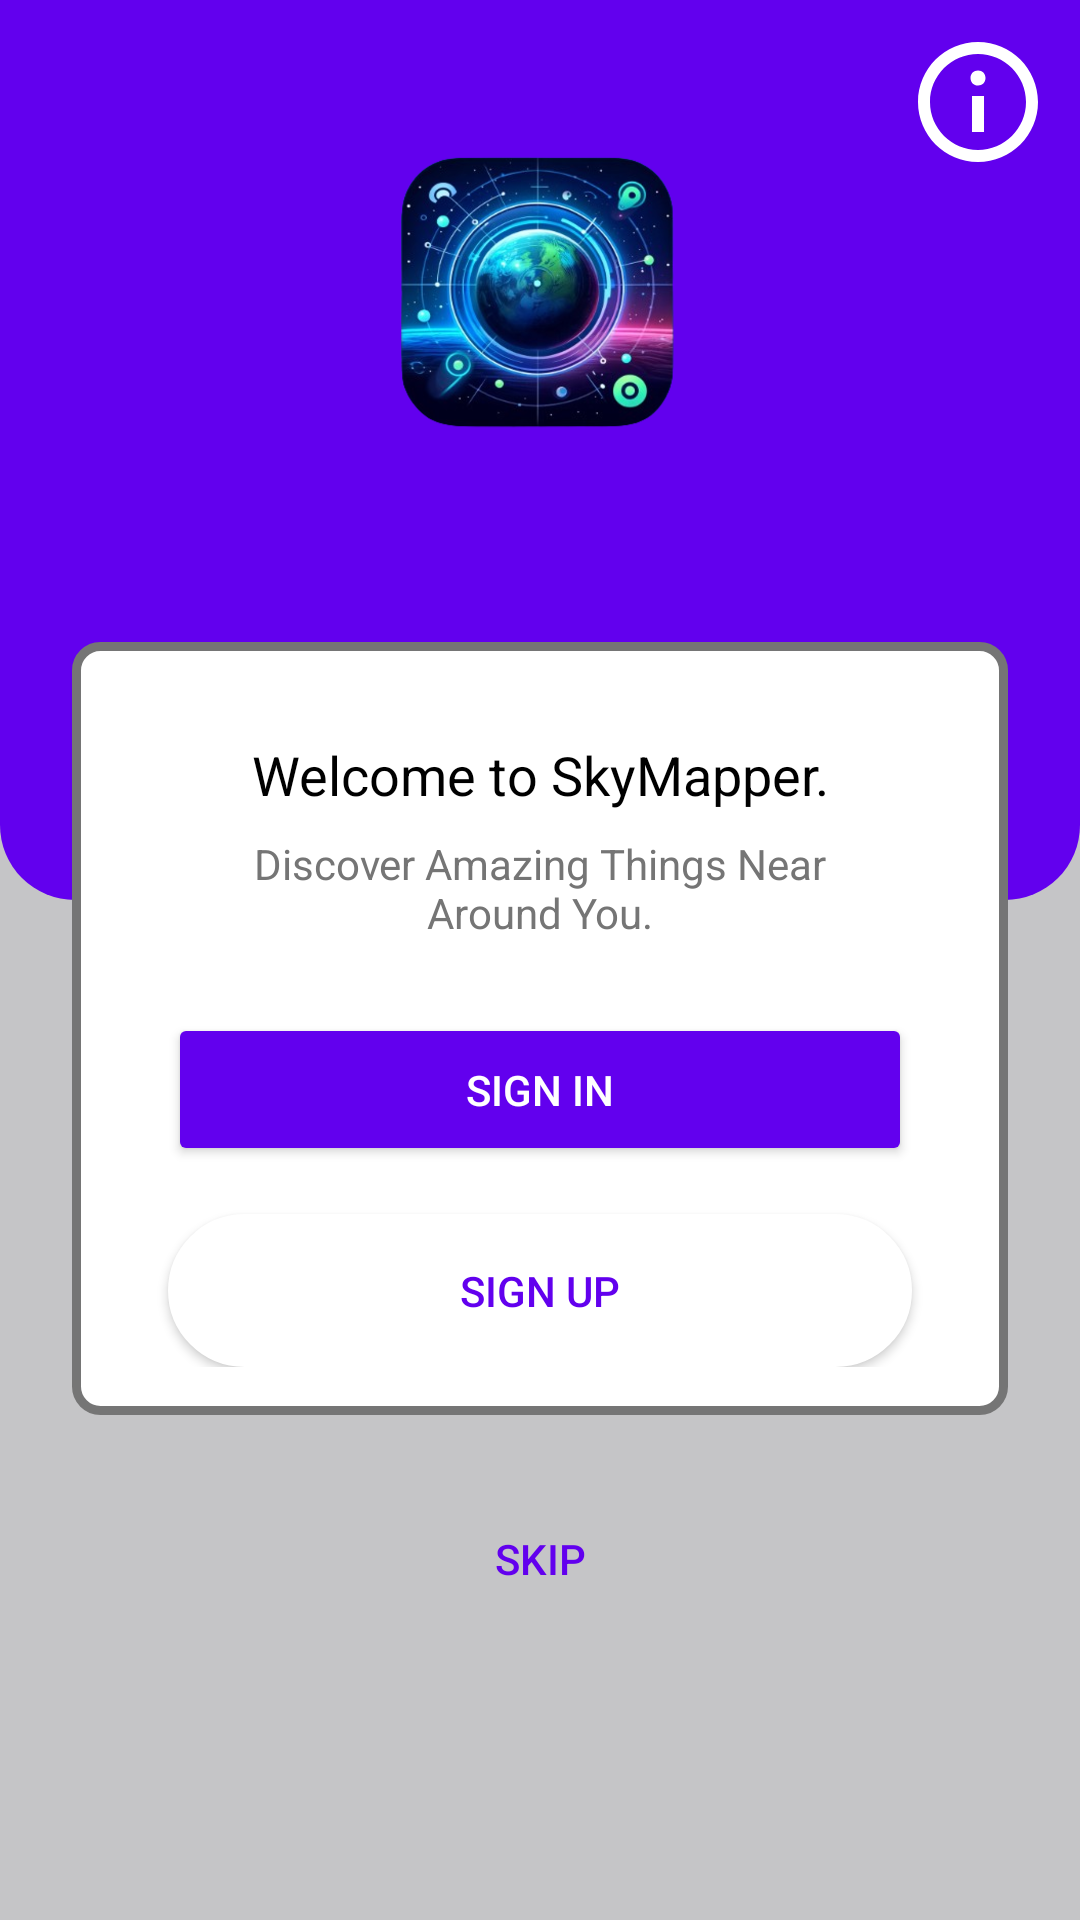

Locate icon controls on the screen. Image size 1080 x 1920, boxes as (x1, y1, x2, y2).
about us button: (918, 42, 1038, 162)
